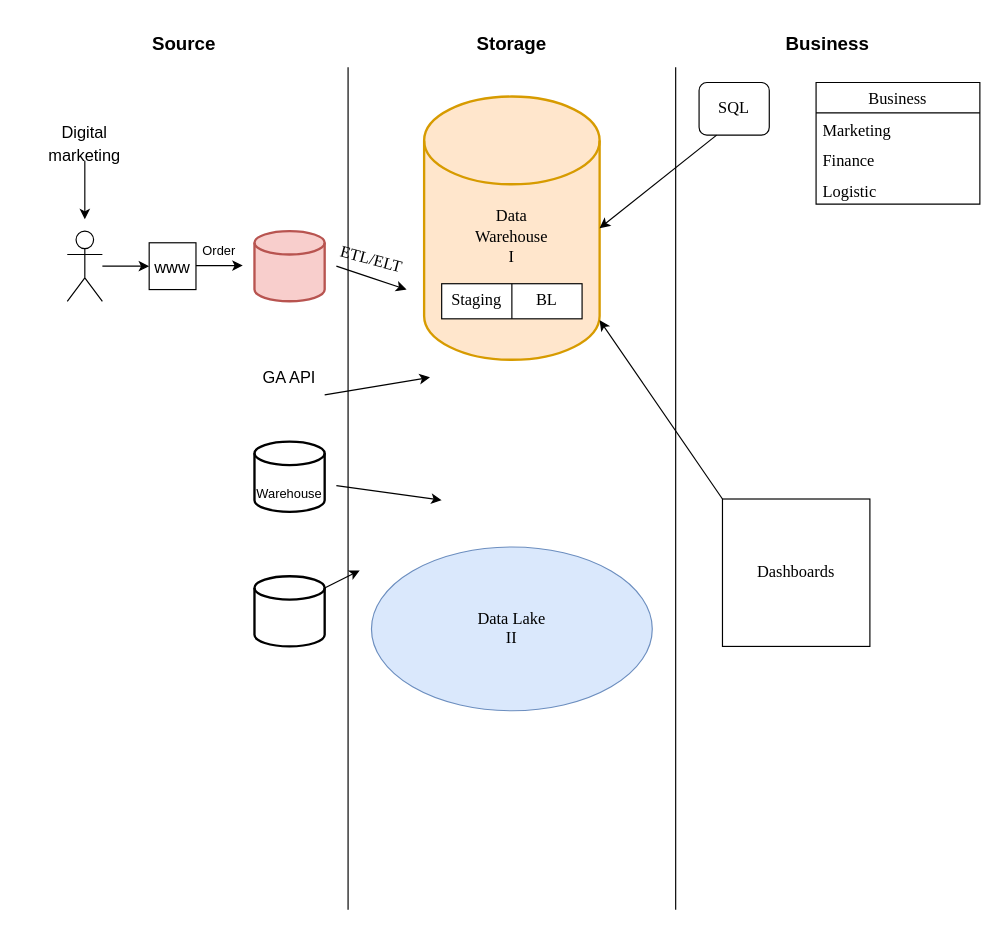
Some shapes in this 1000 by 931 pixel diagram are drawn without their labels. Each missing label, with the centre of its shape:
"CRM" belongs at point 289,610.
"Customer" belongs at point 84,265.
"Sales" belongs at point 289,265.
